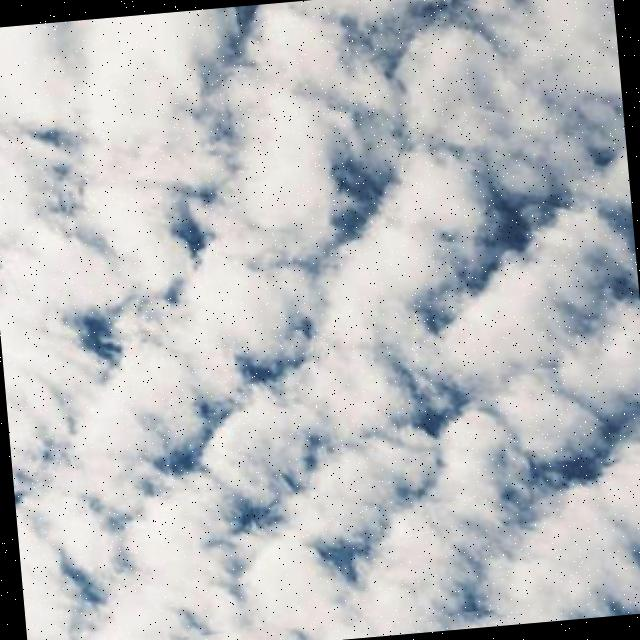Cc: (1, 1, 640, 597)
